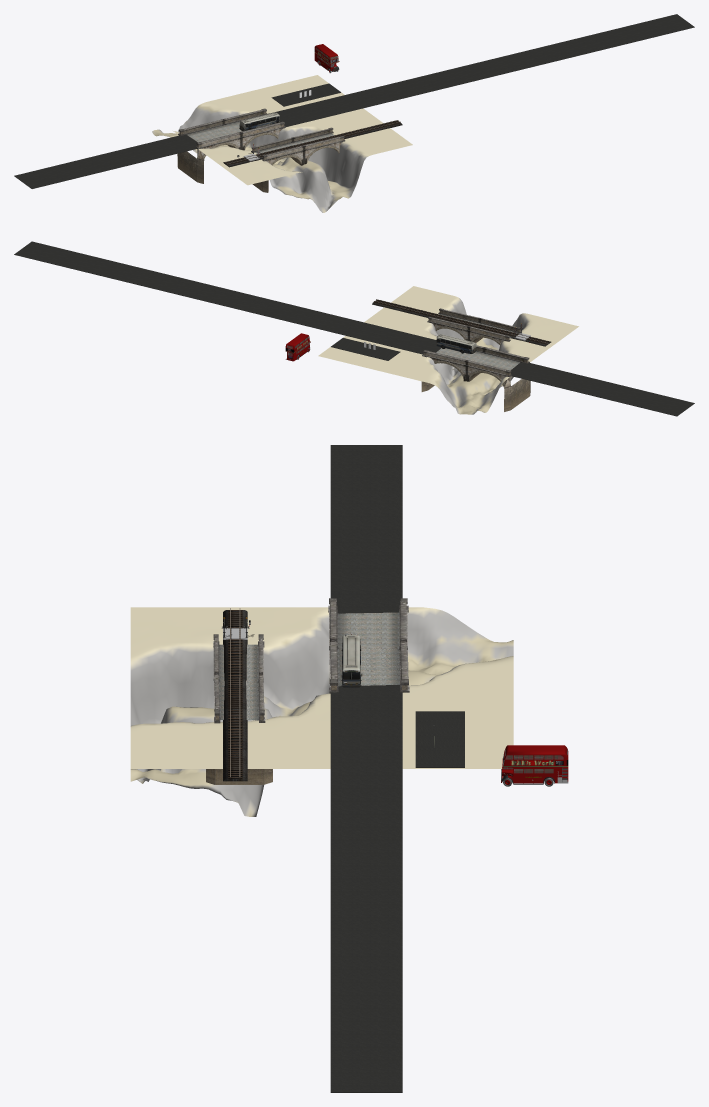
The picture shows the model from 3 angles, top to bottom: view 1: azimuth 30°, elevation 25°; view 2: azimuth 150°, elevation 25°; view 3: azimuth 270°, elevation 25°; orthographic projection. The views are drawn at different scales.
Visible parts, largest first — view 1: Terrain 5,4, Driveway 0.1 - 12.0 - 256.0, Bridge full (×2), Bridge 2x, Pont Miroux, Placa, Bus1, London Bus - RAKis World; view 2: Driveway 0.1 - 12.0 - 256.0, Terrain 5,4, Bridge full (×2), Bridge 2x, Placa, Pont Miroux, Bus1, London Bus - RAKis World; view 3: Terrain 5,4, Driveway 0.1 - 12.0 - 256.0, Bridge full (×2), Placa, Bridge 2x, London Bus - RAKis World, Pont Miroux, TRACKSTRAIGHT16 Rail (×2), Bus1.
Boxes of the visible parts, bbox=[...] form: Terrain 5,4: bbox=[152, 75, 412, 212]; Driveway 0.1 - 12.0 - 256.0: bbox=[14, 14, 694, 188]; Bridge full (×2): bbox=[177, 119, 304, 192]; Bridge 2x: bbox=[223, 108, 285, 150]; Pont Miroux: bbox=[293, 127, 345, 164]; Placa: bbox=[271, 83, 340, 106]; Bus1: bbox=[239, 112, 279, 131]; London Bus - RAKis World: bbox=[314, 44, 338, 71]; Driveway 0.1 - 12.0 - 256.0: bbox=[14, 241, 694, 416]; Terrain 5,4: bbox=[318, 286, 578, 414]; Bridge full (×2): bbox=[466, 318, 530, 411]; Bridge 2x: bbox=[421, 345, 484, 391]; Placa: bbox=[331, 338, 400, 360]; Pont Miroux: bbox=[427, 308, 480, 340]; Bus1: bbox=[436, 334, 477, 353]; London Bus - RAKis World: bbox=[285, 333, 310, 361]; Terrain 5,4: bbox=[130, 607, 513, 816]; Driveway 0.1 - 12.0 - 256.0: bbox=[330, 445, 402, 1092]; Bridge full (×2): bbox=[213, 598, 408, 681]; Placa: bbox=[415, 711, 464, 767]; Bridge 2x: bbox=[329, 640, 409, 693]; London Bus - RAKis World: bbox=[501, 745, 568, 784]; Pont Miroux: bbox=[206, 673, 272, 784]; TRACKSTRAIGHT16 Rail (×2): bbox=[223, 637, 247, 751]; Bus1: bbox=[341, 634, 362, 687].
Size of the model in its own units: 256 by 27.04 by 74.81.
73 materials, 66 textured.
